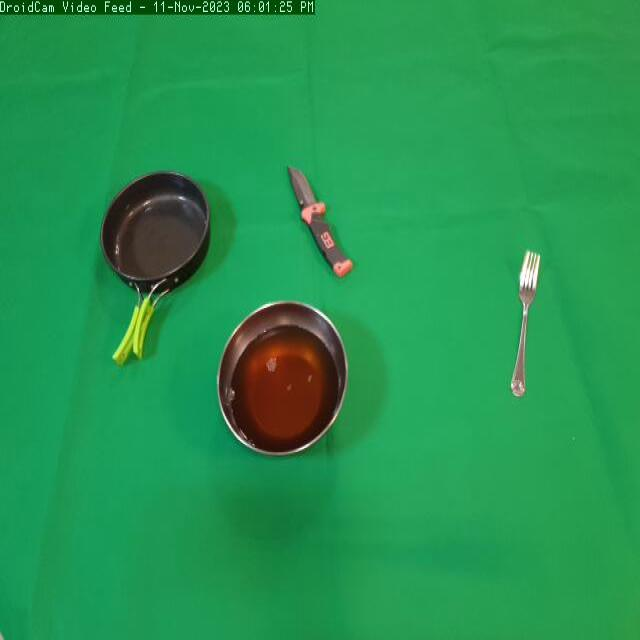fork: (498, 242, 550, 408)
fullbowl: (215, 295, 355, 463)
knife: (284, 157, 361, 289)
pan: (93, 163, 218, 373)
